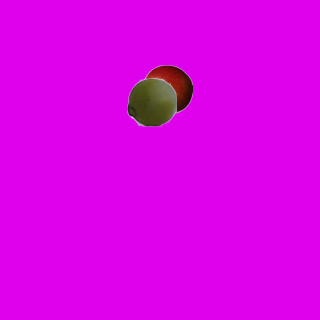Apple Braeburn: (142, 64, 192, 114)
Grape White 4: (126, 76, 176, 126)
